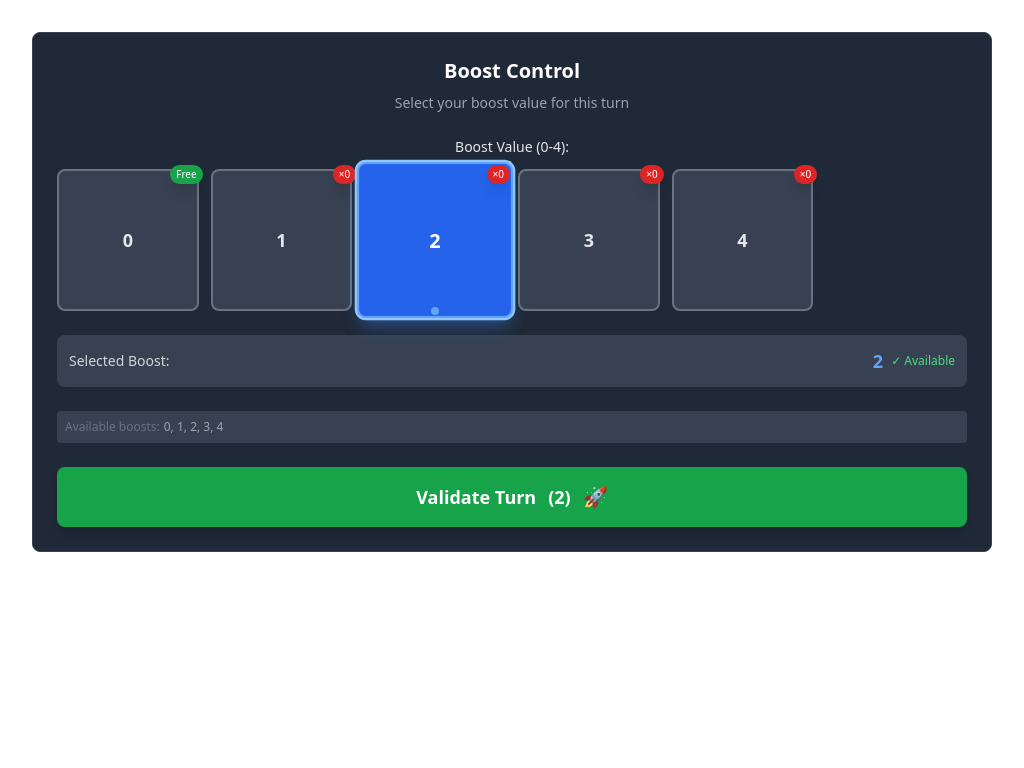
Test case: BoostControlPanel › shows confirmation dialog when validate button is clicked
What coordinates should you click on to do the following:
click the button with aria-label "Validate turn with selected boost"
I would click on:
 (512, 497)
Its box is left=57, top=467, right=967, bottom=527.
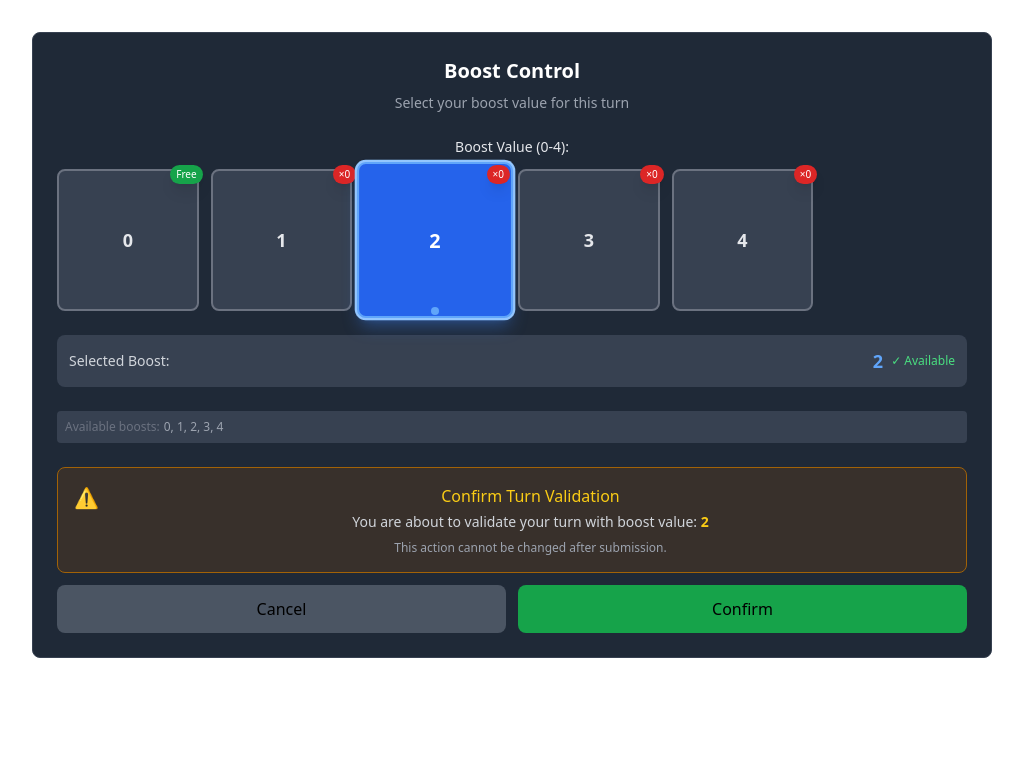
expect the text "Confirm Turn Validation" is shown: met, box left=441, top=485, right=620, bottom=507
expect the text "You are about to validate your turn with boost value:" is shown: met, box left=352, top=512, right=697, bottom=531
